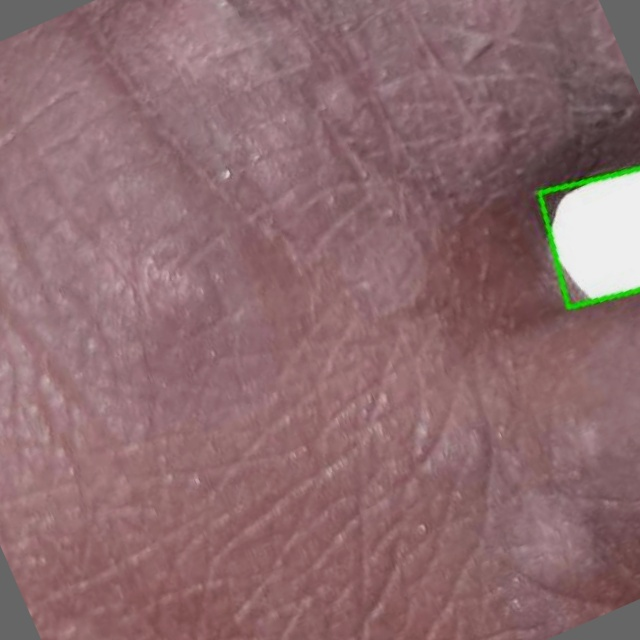Eczema: (540, 167, 639, 306)
